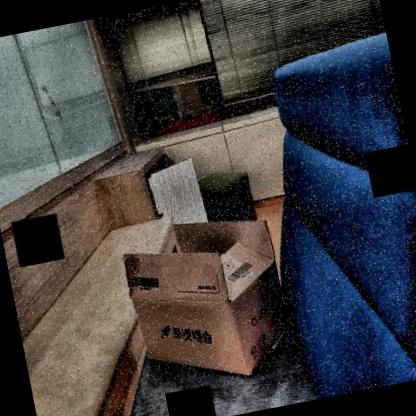box: (110, 198, 314, 402)
